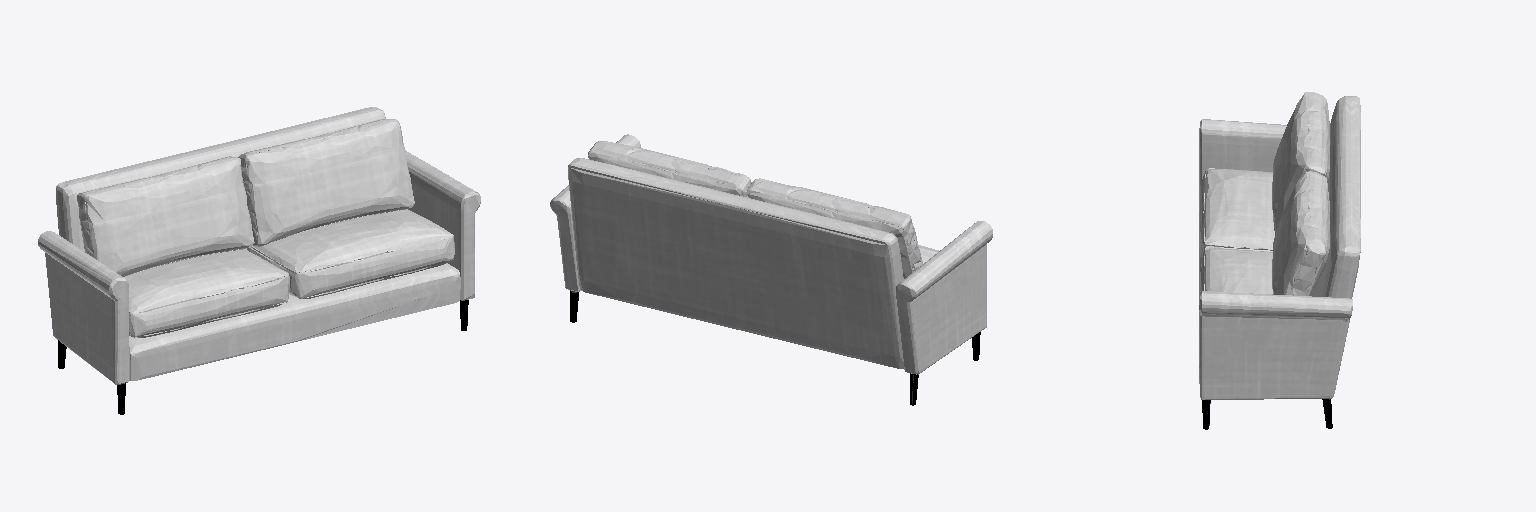
3 renders of one model, left to right at view 1: azimuth 30°, elevation 25°; view 2: azimuth 150°, elevation 25°; view 3: azimuth 270°, elevation 25°, orthographic.
Parts seen in each view (by area): view 1: pasted__pasted__pasted__pasted__unknown_trinity pasted__pasted__; view 2: pasted__pasted__pasted__pasted__unknown_trinity pasted__pasted__; view 3: pasted__pasted__pasted__pasted__unknown_trinity pasted__pasted__.
Boxes of the visible parts, box(x1,y1,x2,y2) form: pasted__pasted__pasted__pasted__unknown_trinity pasted__pasted__: box(38, 107, 480, 414); pasted__pasted__pasted__pasted__unknown_trinity pasted__pasted__: box(550, 134, 992, 405); pasted__pasted__pasted__pasted__unknown_trinity pasted__pasted__: box(1199, 92, 1360, 429).
Bounding box in the file's own units: 2.67 × 1.22 × 1.01.
Materials: 1 (1 with a texture image).